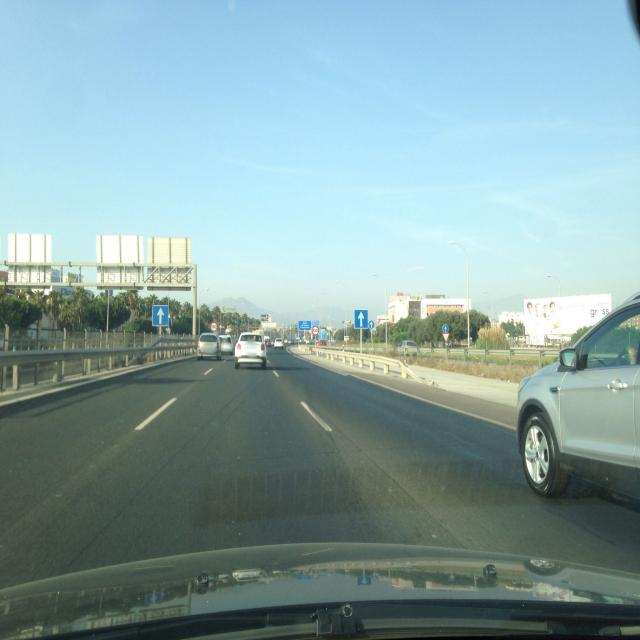car: (514, 284, 640, 509), (234, 331, 268, 370), (196, 332, 223, 361), (396, 339, 419, 356), (218, 334, 234, 356), (273, 338, 284, 350)
